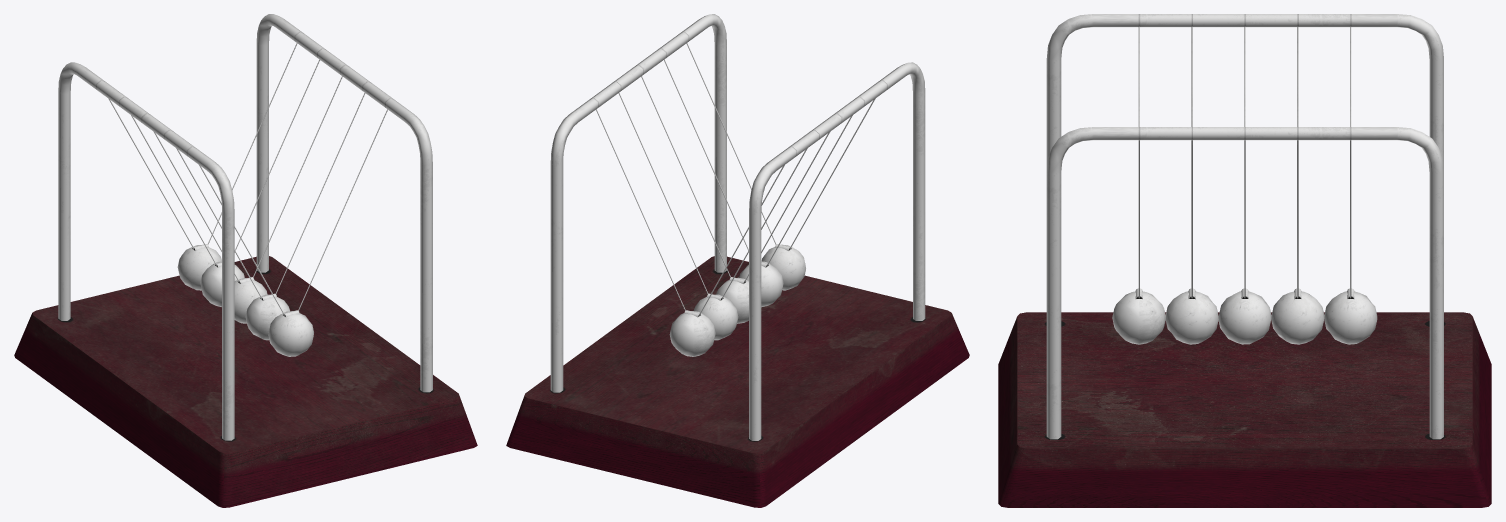
Rendered from SM_Newton_Toy_01a.fbx.
3 renders of one model, left to right at view 1: azimuth 30°, elevation 25°; view 2: azimuth 150°, elevation 25°; view 3: azimuth 270°, elevation 25°, orthographic. The views are drawn at different scales.
Visible parts, largest first — view 1: SM_Newton_Toy_01a_LOD0; view 2: SM_Newton_Toy_01a_LOD0; view 3: SM_Newton_Toy_01a_LOD0.
Part boxes in pixels (bbox=[...]): SM_Newton_Toy_01a_LOD0: bbox=[14, 14, 477, 507]; SM_Newton_Toy_01a_LOD0: bbox=[506, 14, 969, 507]; SM_Newton_Toy_01a_LOD0: bbox=[998, 14, 1491, 507].
Size of the model in its own units: 15.97 by 22.56 by 18.34.
Materials: 1 (1 with a texture image).
